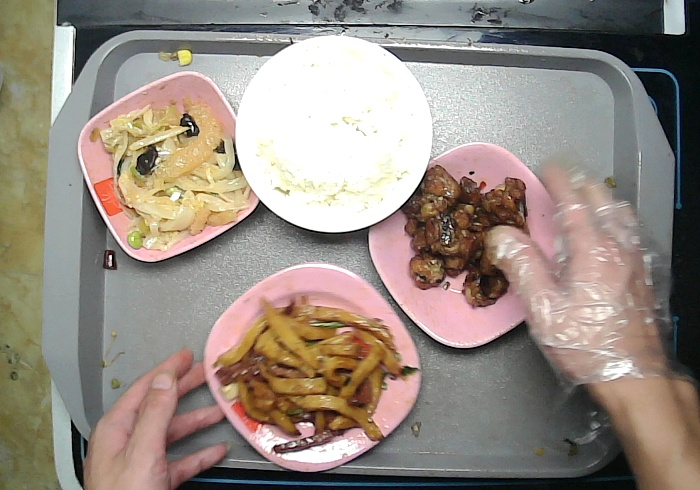SHKJ-Fan_Wan: (234, 33, 435, 235)
SHKJ-Fen_Se_Cai_Die: (365, 140, 578, 350)
SHKJ-Fen_Se_Si_Fang_Cai_Die: (202, 259, 426, 474)
SHKJ-Fen_Se_Xiao_Fang_Die: (75, 69, 264, 264)
